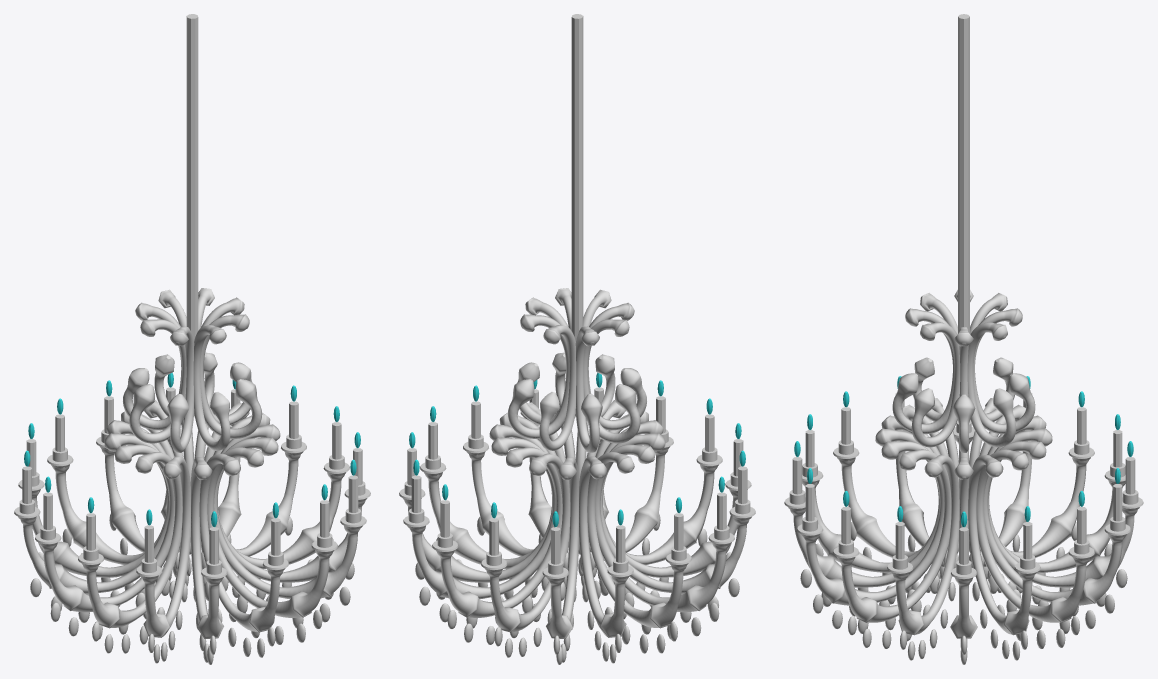
File: chandelier.fbx
3 renders of one model, left to right at view 1: azimuth 30°, elevation 25°; view 2: azimuth 150°, elevation 25°; view 3: azimuth 270°, elevation 25°, orthographic.
Parts seen in each view (by area): view 1: chande; view 2: chande; view 3: chande.
Part boxes in pixels (box(x1,y1,x2,y2)): chande: box(14, 14, 370, 664); chande: box(399, 14, 755, 664); chande: box(784, 14, 1143, 664).
Bounding box in the file's own units: 9.86 × 18.18 × 9.86.
